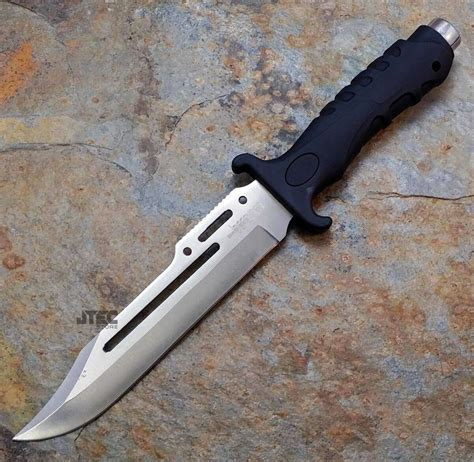knife: (12, 13, 463, 445)
